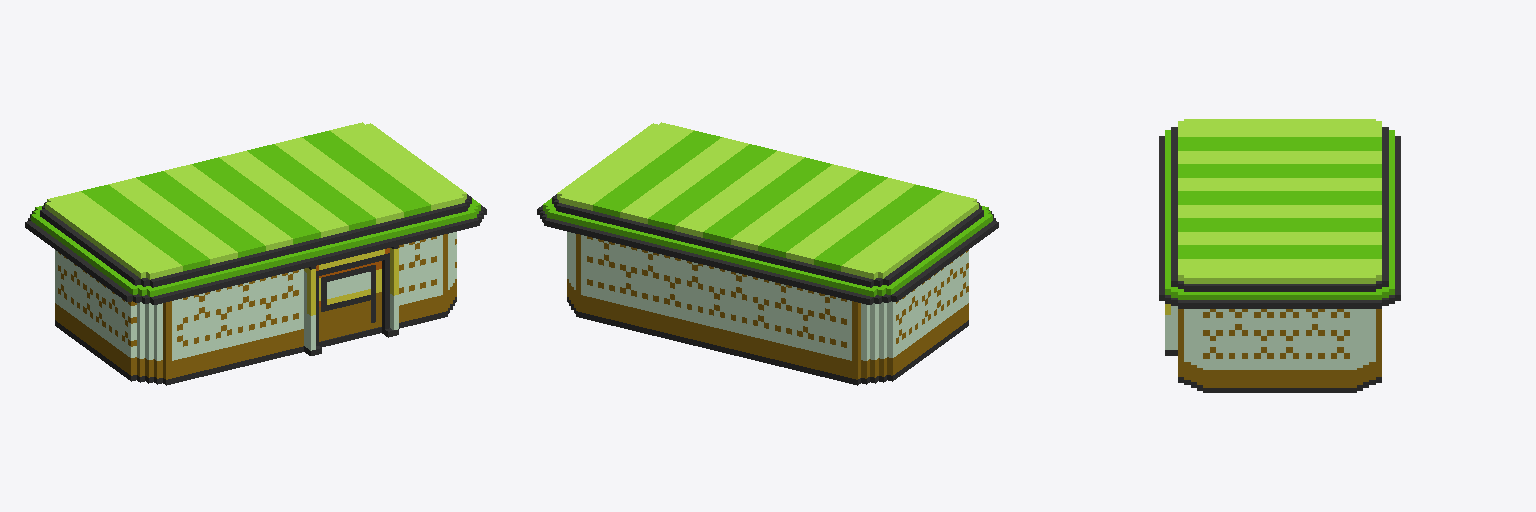
The picture shows the model from 3 angles: view 1: azimuth 30°, elevation 25°; view 2: azimuth 150°, elevation 25°; view 3: azimuth 270°, elevation 25°; orthographic projection.
Parts seen in each view (by area): view 1: Model; view 2: Model; view 3: Model.
Boxes of the visible parts, x1,y1,x2,y2 form: Model: [25, 122, 486, 385]; Model: [537, 122, 998, 385]; Model: [1159, 119, 1400, 392].
Size of the model in its own units: 65 by 20 by 38.
1 materials, 1 textured.